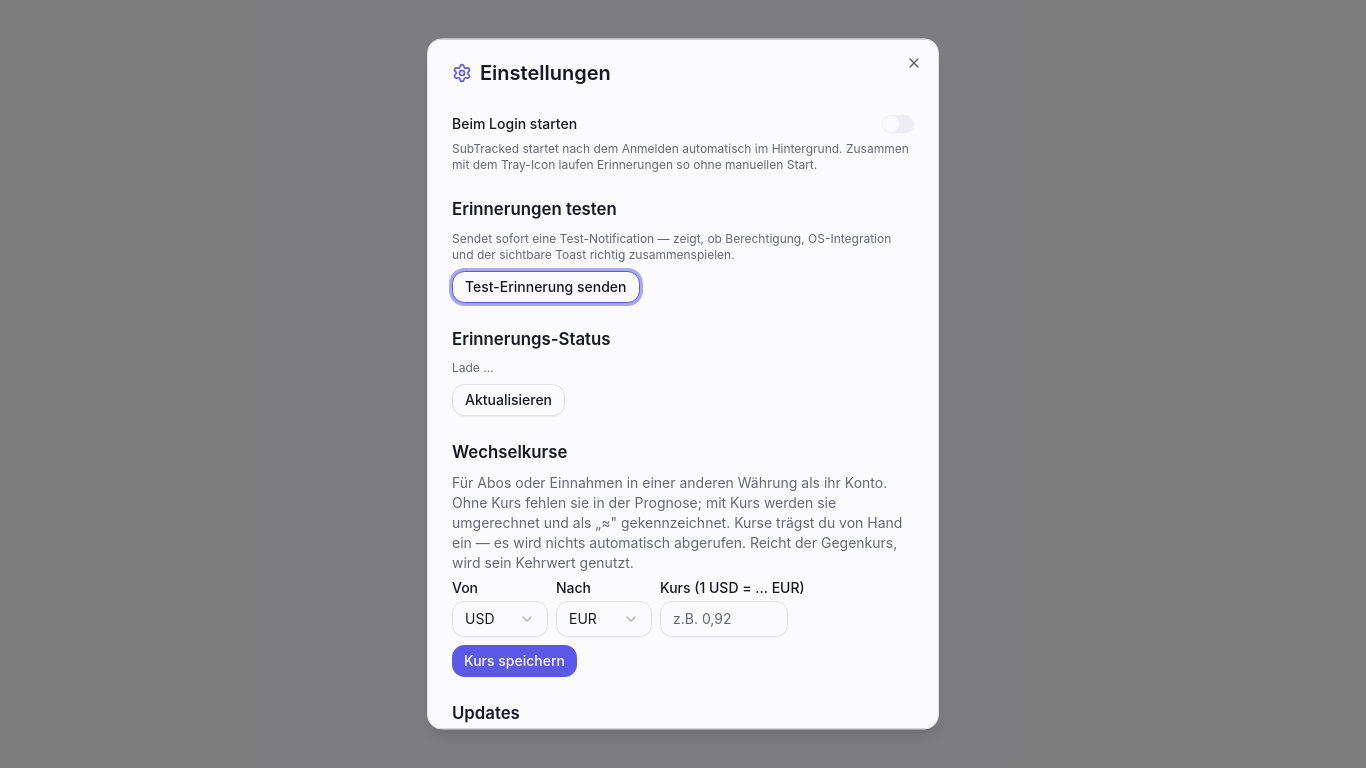
SettingsDialog › zeigt einen Fehler, wenn Test-Notification fehlschlägt
The image size is (1366, 768).
Click the button "Test-Erinnerung senden".
click(546, 287)  # box [452,271,640,303]
(page scrolled)
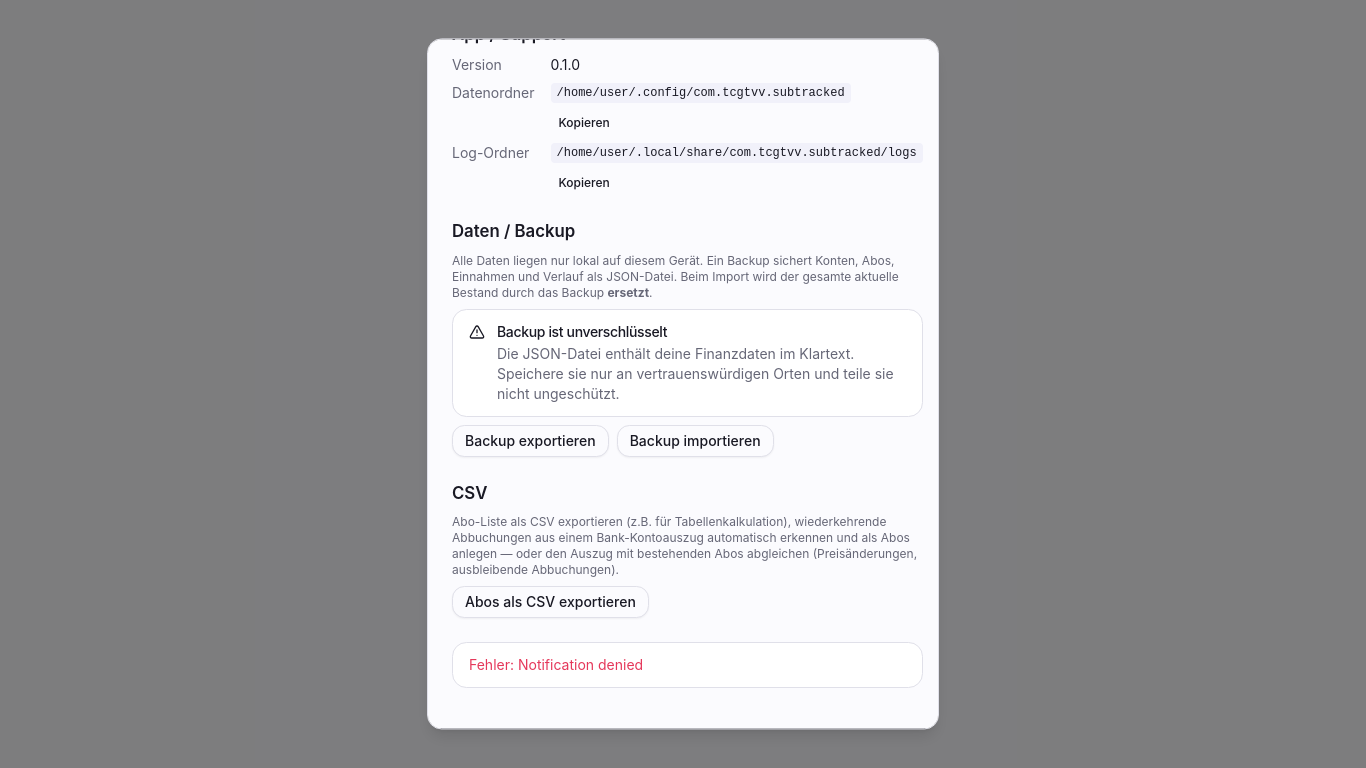
Check: the message shows "Notification denied", box [518,656,643,673]
